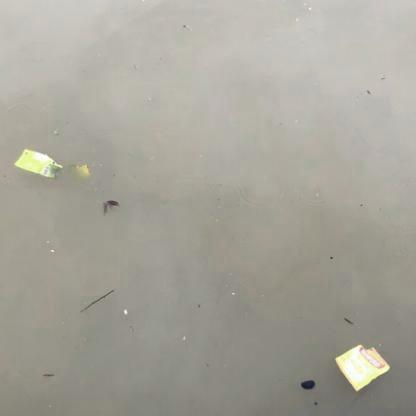Trash: (335, 344, 394, 396), (13, 147, 65, 183)
